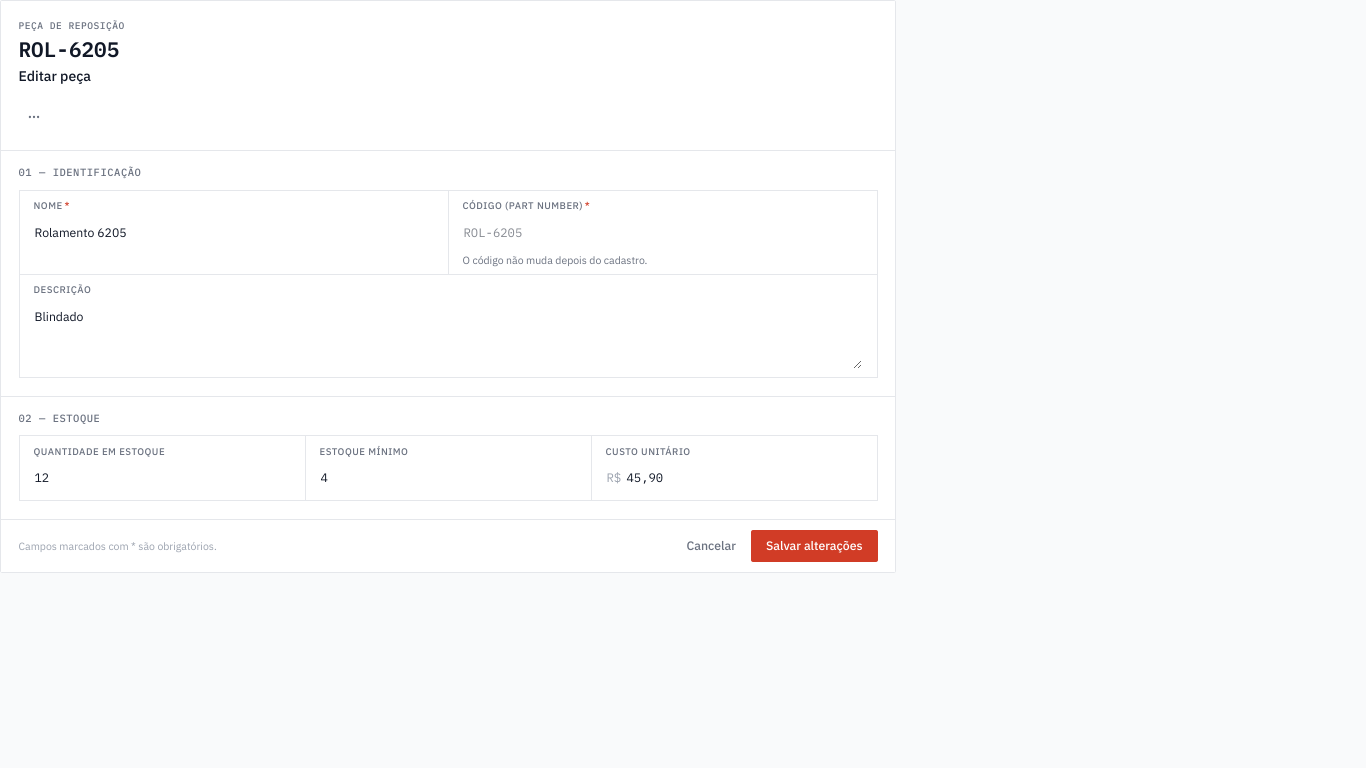
it: SparePartEditPage — modo edição › deve desabilitar a exclusão para quem não tem sparepart.delete
Check: the number field showing "12" is shown, box [34, 462, 290, 493]
Click the button named "Mais ações" at [34, 117], box [18, 101, 48, 133]
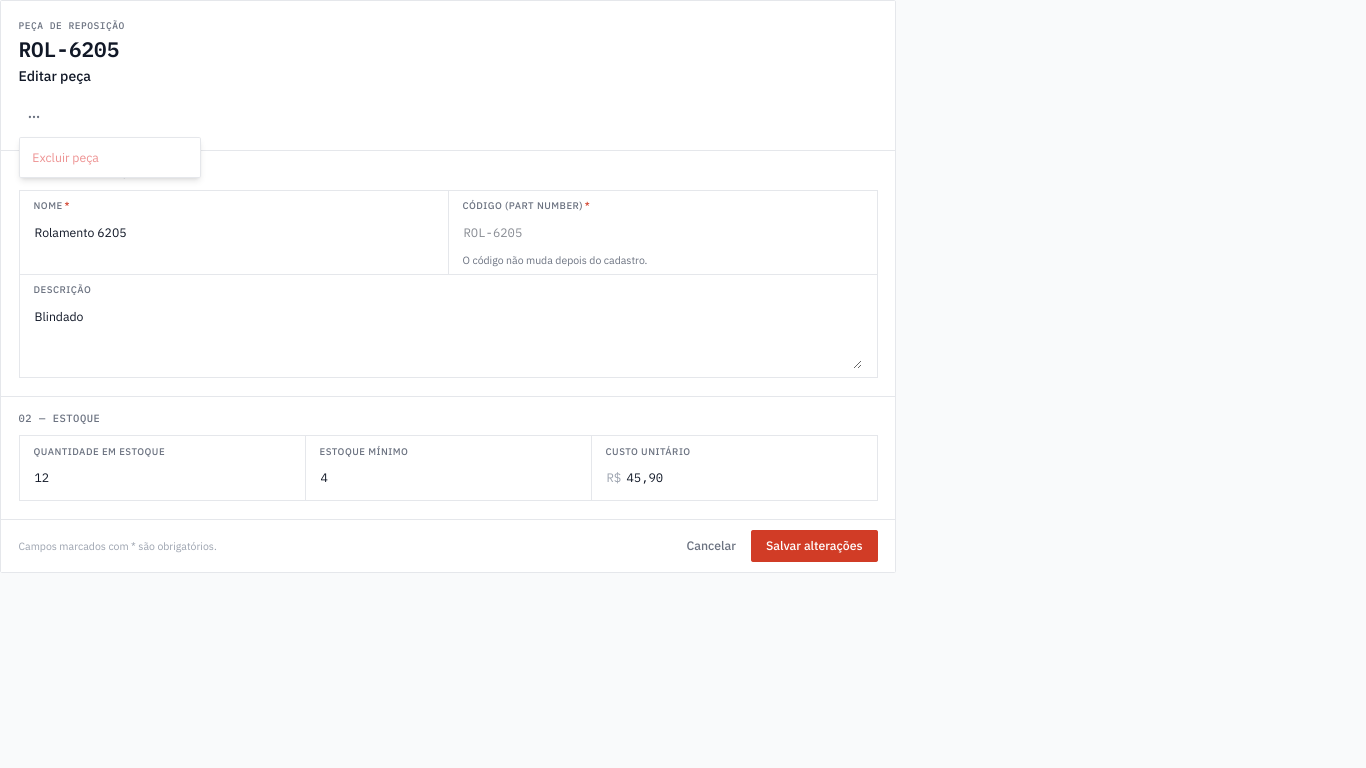
Check: the button "Excluir peça" is disabled, box [24, 142, 196, 173]
